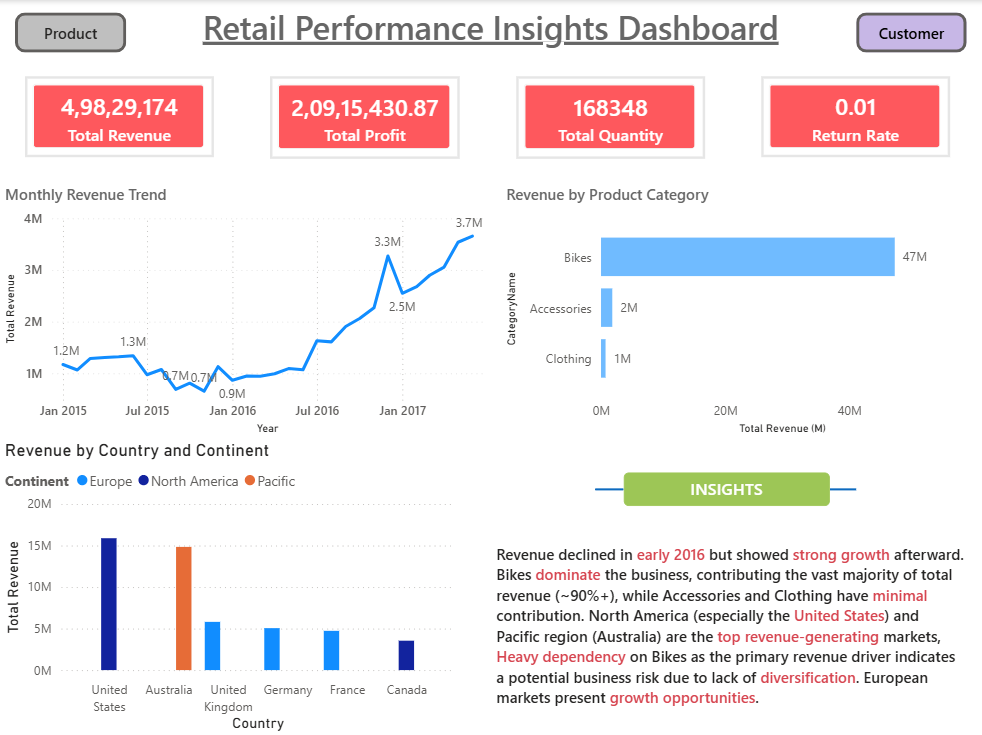

This screenshot's page, from the dashboard's own definition file:
{"tool":"powerbi","page":{"name":"Executive Overview","canvas":[960,720],"ordinal":0},"visuals":[{"type":"textbox","box":[173.7,0,612.6,63.6],"z":0},{"type":"cardVisual","fields":{"Data":["gold extfact_sales.Total Revenue"]},"box":[24.5,74.6,184.6,79.5],"z":1000},{"type":"cardVisual","fields":{"Data":["gold extfact_sales.Total Quantity"]},"box":[505,74.6,184.6,80.7],"z":2000},{"type":"cardVisual","fields":{"Data":["gold extfact_sales.Total Profit"]},"box":[264.1,74.6,185.9,80.7],"z":3000},{"type":"cardVisual","fields":{"Data":["gold extfact_returns.Return Rate"]},"box":[744.7,74.6,184.6,79.5],"z":4000},{"type":"lineChart","title":"Monthly Revenue Trend","fields":{"Y":["gold extfact_sales.Total Revenue"],"Category":["gold extdim_date.Date.Variation.Date Hierarchy.Year","gold extdim_date.Date.Variation.Date Hierarchy.Month"]},"box":[0,179.8,490.4,250.7],"z":5000},{"type":"barChart","title":" Revenue by Product Category","fields":{"Y":["gold extfact_sales.Total Revenue"],"Category":["gold extdim_product.CategoryName"]},"box":[490.4,179.8,469.6,250.7],"z":6000},{"type":"clusteredColumnChart","title":" Revenue by Country and Continent","fields":{"Category":["gold extdim_territory.Country"],"Y":["gold extfact_sales.Total Revenue"],"Series":["gold extdim_territory.Continent"]},"box":[0,430.4,450,289.8],"z":7000},{"type":"textbox","box":[610.2,462.2,201.8,33],"z":8000},{"type":"shape","box":[582.1,430.4,28.1,96.6],"z":9000},{"type":"shape","box":[812,430.4,25.7,96.6],"z":10000},{"type":"textbox","box":[480.6,527,469.6,176.1],"z":11000},{"type":"actionButton","box":[837.6,12.2,108,39.1],"z":11001},{"type":"actionButton","box":[14.7,12.2,108.8,39.1],"z":11002}]}

Visuals, with their boxes in screenshot pixels (x1, y1, x2, y2), scaled from the page's 960x720 canvas onto the 982x735 screenshot:
textbox: (x1=178, y1=0, x2=804, y2=65)
cardVisual - gold extfact_sales.Total Revenue: (x1=25, y1=76, x2=214, y2=157)
cardVisual - gold extfact_sales.Total Quantity: (x1=517, y1=76, x2=705, y2=159)
cardVisual - gold extfact_sales.Total Profit: (x1=270, y1=76, x2=460, y2=159)
cardVisual - gold extfact_returns.Return Rate: (x1=762, y1=76, x2=951, y2=157)
"Monthly Revenue Trend" lineChart: (x1=0, y1=184, x2=502, y2=439)
" Revenue by Product Category" barChart: (x1=502, y1=184, x2=981, y2=439)
" Revenue by Country and Continent" clusteredColumnChart: (x1=0, y1=439, x2=460, y2=734)
textbox: (x1=624, y1=472, x2=831, y2=506)
shape: (x1=595, y1=439, x2=624, y2=538)
shape: (x1=831, y1=439, x2=857, y2=538)
textbox: (x1=492, y1=538, x2=972, y2=718)
actionButton: (x1=857, y1=12, x2=967, y2=52)
actionButton: (x1=15, y1=12, x2=126, y2=52)
